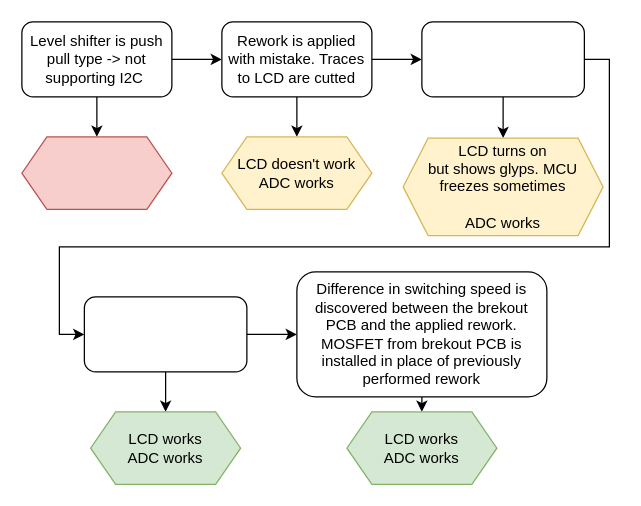
Some shapes in this 641 by 506 pixel diagram are drawn without their labels. The shapes that lost their labels are listed below. From the top down, each one's centre as x and y in pixels, then its label:
At [502,59]: "mistake in rework is corrected. LCD is connected back to I2C".
At [96,172]: "LCD doesn't work ADC doesn't work".
At [165,334]: "LCD is tested with external level converted breakout PCB".
